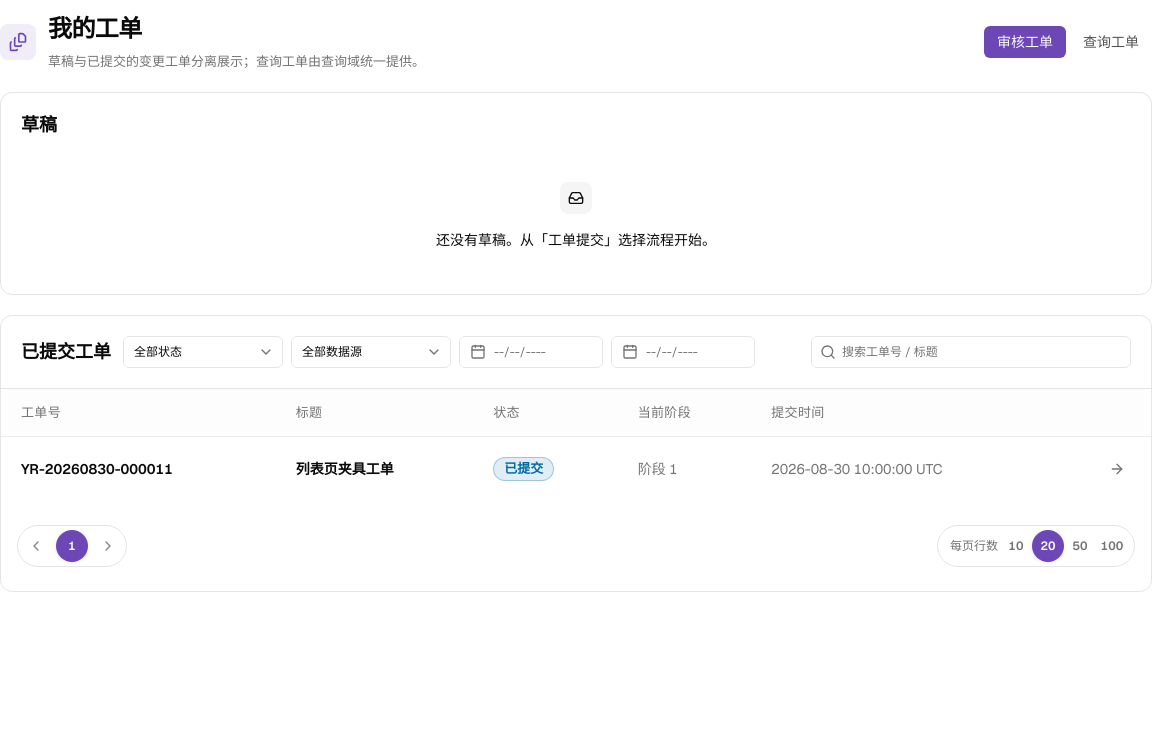
MinePage › offers the reset affordance only while filters are active
Expected: the table with test id "mine-orders-table" is shown, [1,389,1151,501]
Type "YR" into the field with test id "filter-keyword" at (983, 352), box [836,336,1130,368]
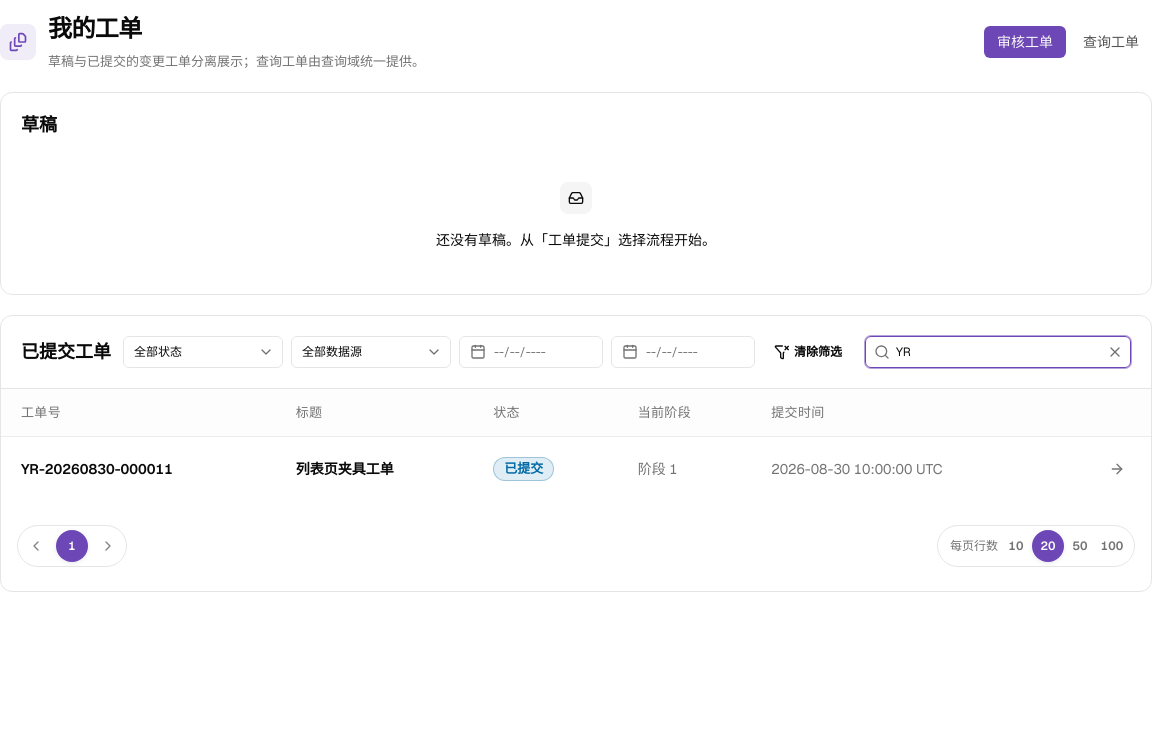
Expected: the button with test id "filter-reset" is shown
Click the button with test id "filter-reset" at (808, 352), box [763,338,853,366]
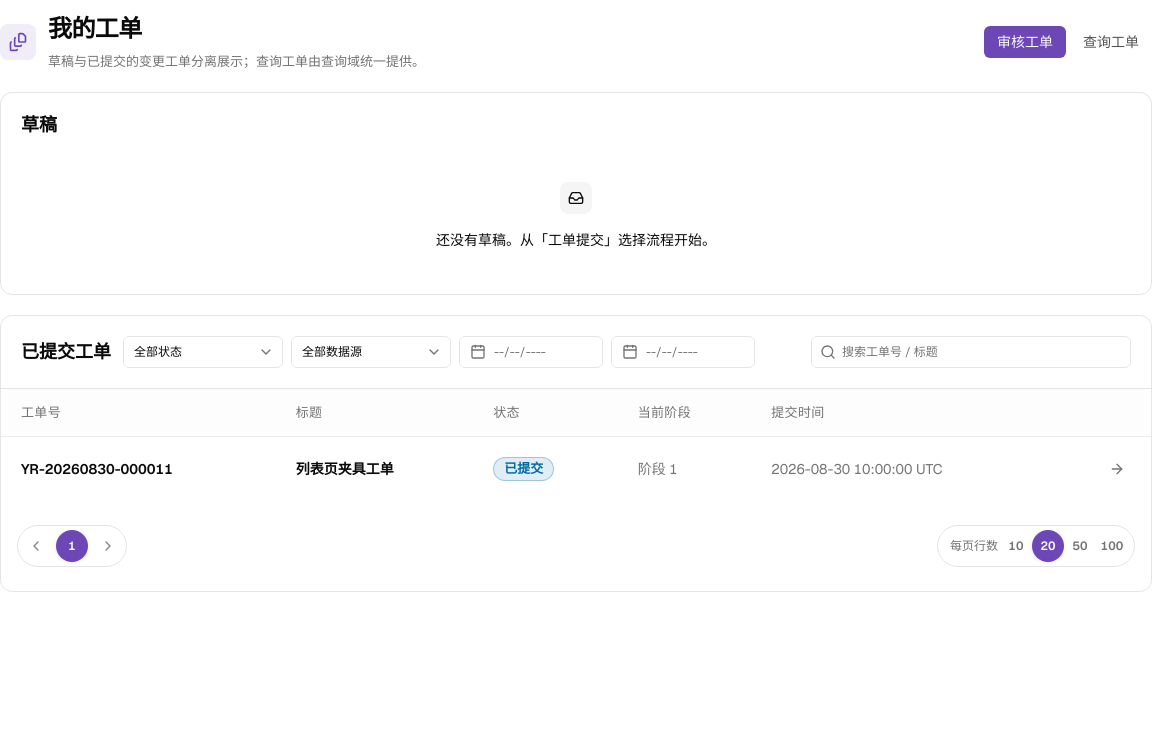
Expected: the button with test id "filter-reset" is gone
Expected: the field with test id "filter-keyword" is empty, [836,336,1130,368]
